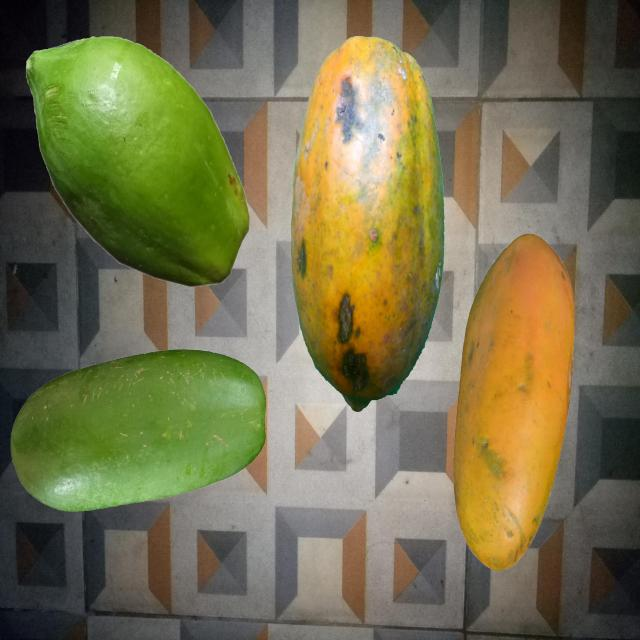Pepaya rippen: (291, 34, 444, 431), (441, 229, 583, 590)
Pepaya unrippen: (13, 38, 256, 301), (9, 346, 290, 516)
